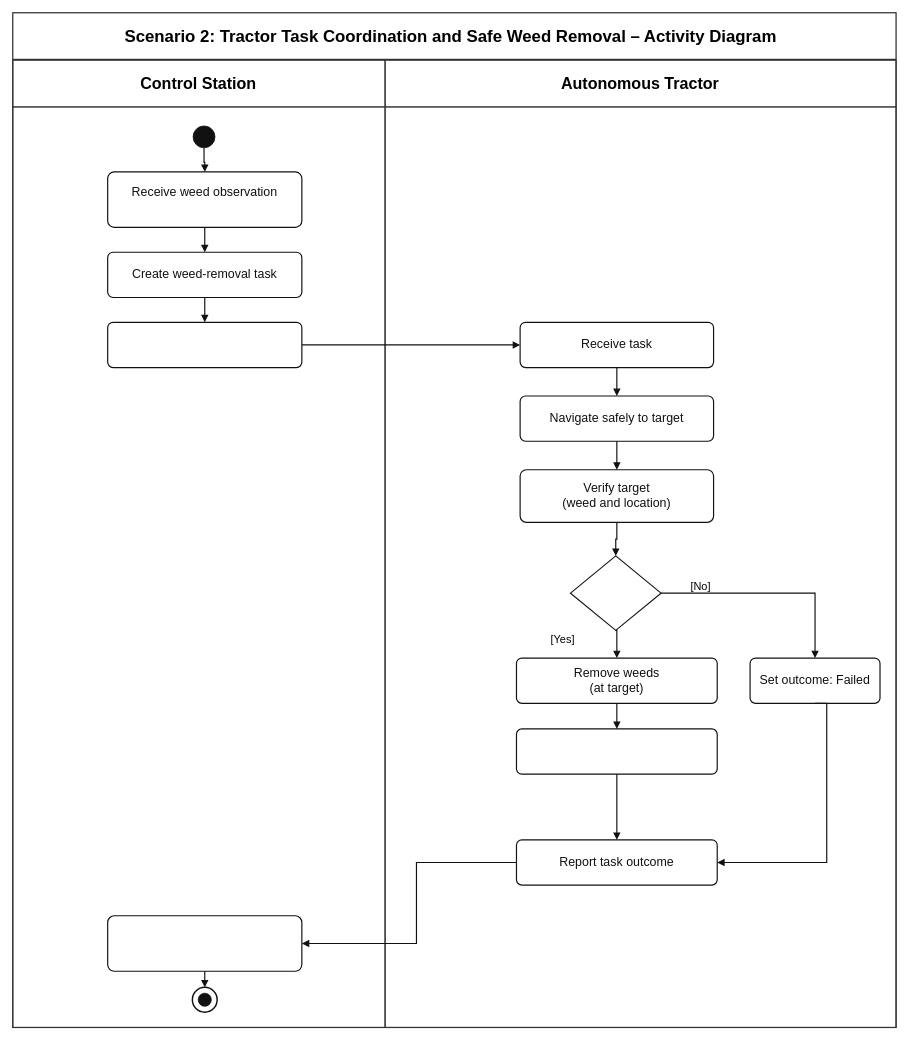
The diagram is 910 pixels wide and 1041 high, and some of its shapes have lost their labels. The box of each missing label's shape, as (x1, y1, x2, y2) in pixels:
Assign task to tractor: (107, 321, 302, 368)
Record task outcome and update status: (107, 915, 302, 971)
Set outcome: Completed: (516, 728, 717, 774)
Target valid?: (570, 555, 661, 631)
